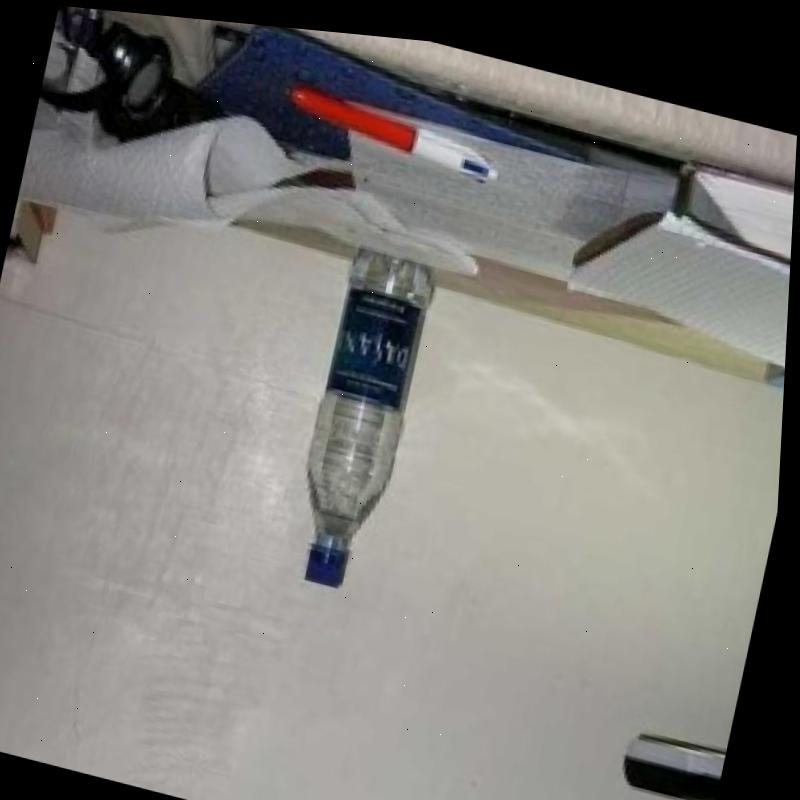botella: (285, 233, 439, 595)
